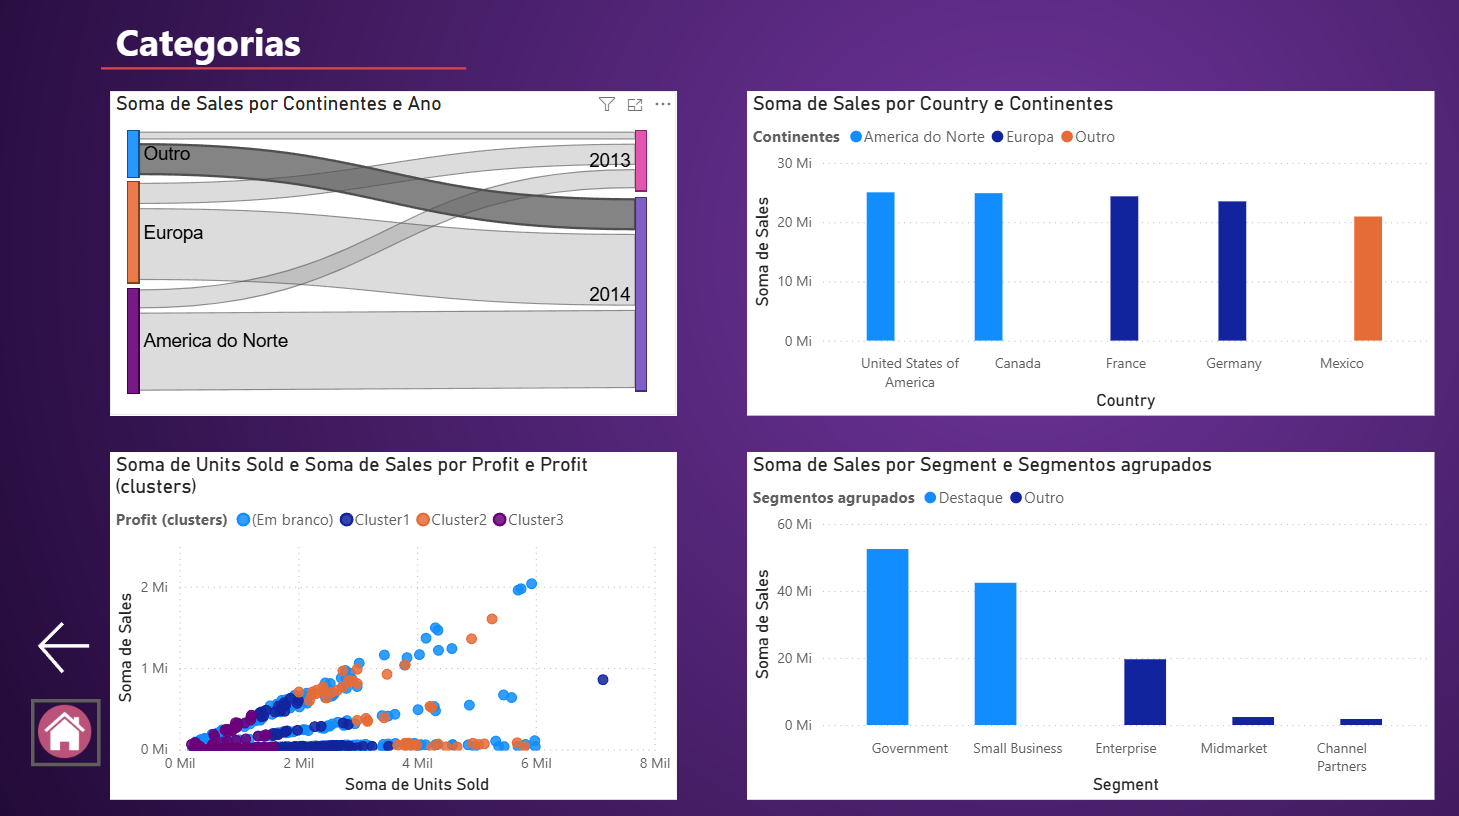

Layout of this report page (visuals, bound fields, positions):
{"tool":"powerbi","page":{"name":"Categorias e Clusters","canvas":[1280,720],"ordinal":5},"visuals":[{"type":"image","box":[0,0,1269.9,719.7],"z":0},{"type":"shape","title":"Sublinhado","box":[91.9,38.4,315,57.5],"z":0,"group":"g2"},{"type":"textbox","box":[100,17.2,312.9,69.7],"z":1000,"group":"g2"},{"type":"actionButton","title":"Botão - Next","box":[32.4,539.2,58,56.3],"z":1000},{"type":"image","box":[32.3,611.7,57.5,55.5],"z":2000,"group":"g1"},{"type":"actionButton","box":[32.3,611.7,60,58],"z":3000,"group":"g1"},{"type":"group","id":"g1","title":"Botão Home","box":[32.3,611.7,60,58],"z":3001},{"type":"clusteredColumnChart","fields":{"Y":["Sum(financials. Sales)"],"Category":["financials.Segment"],"Series":["financials.Segmentos agrupados"]},"box":[649.1,398.7,592.6,299.8],"z":3002},{"type":"clusteredColumnChart","fields":{"Category":["financials.Country"],"Series":["financials.Continentes"],"Y":["Sum(financials. Sales)"]},"box":[649.1,86.8,592.6,279.6],"z":3003},{"type":"group","id":"g2","title":"Titulo","box":[91.9,17.2,321,78.7],"z":3004},{"type":"sankey02300D1BE6F5427989F3DE31CCA9E0F32020","fields":{"Source":["financials.Continentes"],"Destination":["financials.Date.Variation.Hierarquia de datas.Ano"],"Weight":["Sum(financials. Sales)"]},"box":[99.9,86.8,488.6,279.6],"z":3005},{"type":"scatterChart","fields":{"X":["Sum(financials.Units Sold)"],"Y":["Sum(financials. Sales)"],"Series":["financials.Profit (clusters)"],"Category":["financials.Profit"]},"box":[99.9,398.7,488.6,299.8],"z":3006}]}

Visuals, with their boxes in screenshot pixels (x1, y1, x2, y2), scaled from the page's 1280x720 canvas onto the 1459x816 screenshot:
image: 0/0/1447/815
"Sublinhado" shape: 105/44/464/109
textbox: 114/19/471/98
"Botão - Next" actionButton: 37/611/103/675
image: 37/693/102/756
actionButton: 37/693/105/759
"Botão Home" group: 37/693/105/759
clusteredColumnChart - Sum(financials. Sales) x financials.Segment: 740/452/1415/792
clusteredColumnChart - financials.Country x financials.Continentes: 740/98/1415/415
"Titulo" group: 105/19/471/109
sankey02300D1BE6F5427989F3DE31CCA9E0F32020 - financials.Continentes x financials.Date.Variation.Hierarquia de datas.Ano: 114/98/671/415
scatterChart - Sum(financials.Units Sold) x Sum(financials. Sales): 114/452/671/792
